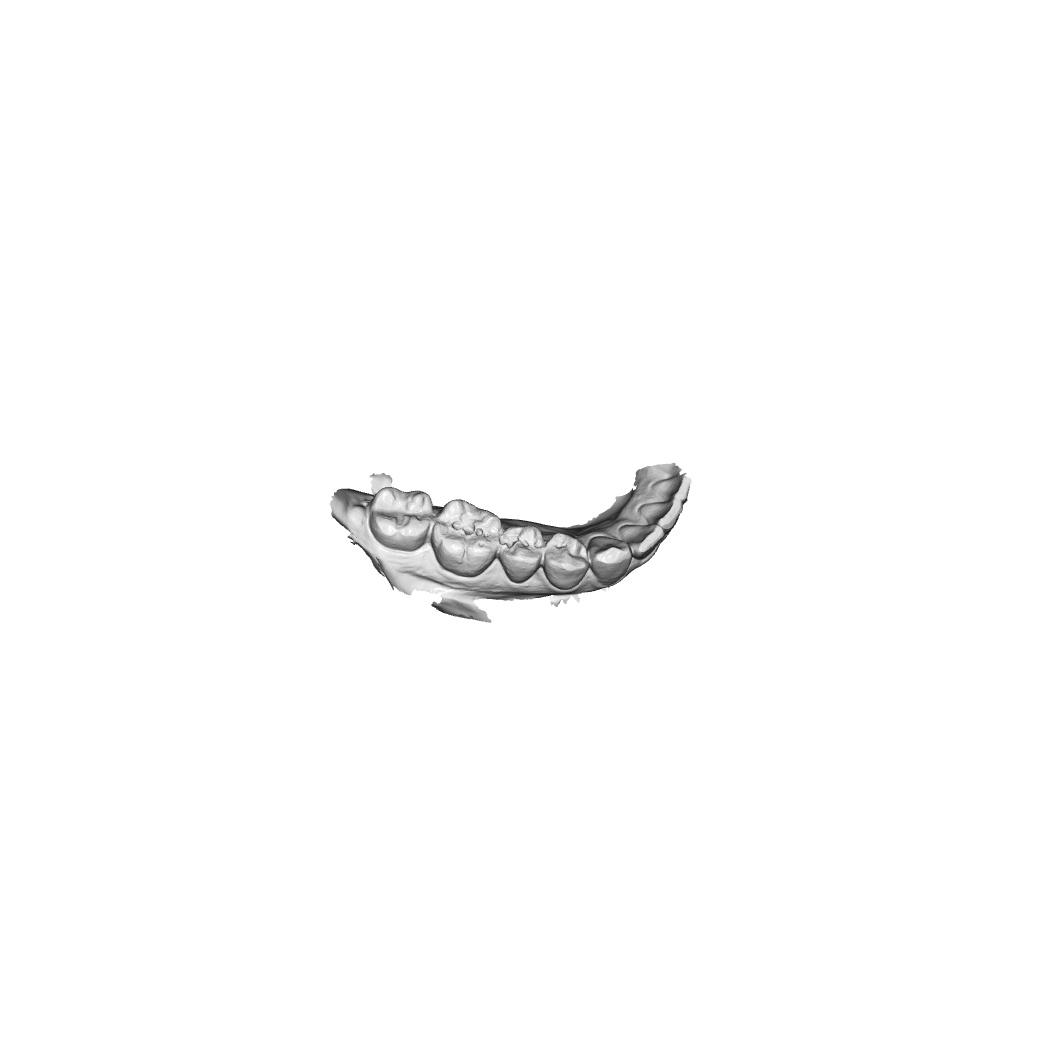canine: (585, 534, 632, 587)
incisor: (617, 522, 666, 561), (636, 498, 684, 531), (651, 473, 693, 503)
molar: (430, 498, 504, 579), (368, 486, 434, 552)
premolar: (498, 524, 545, 585), (542, 531, 589, 592)
